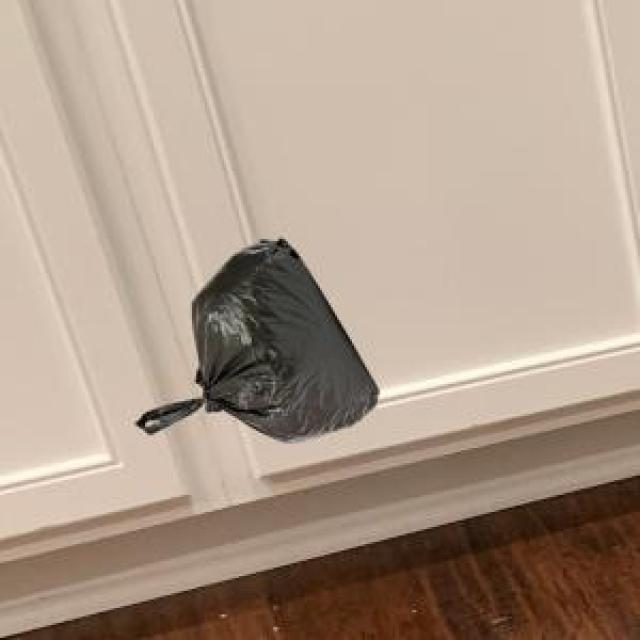waste: (136, 239, 379, 441)
